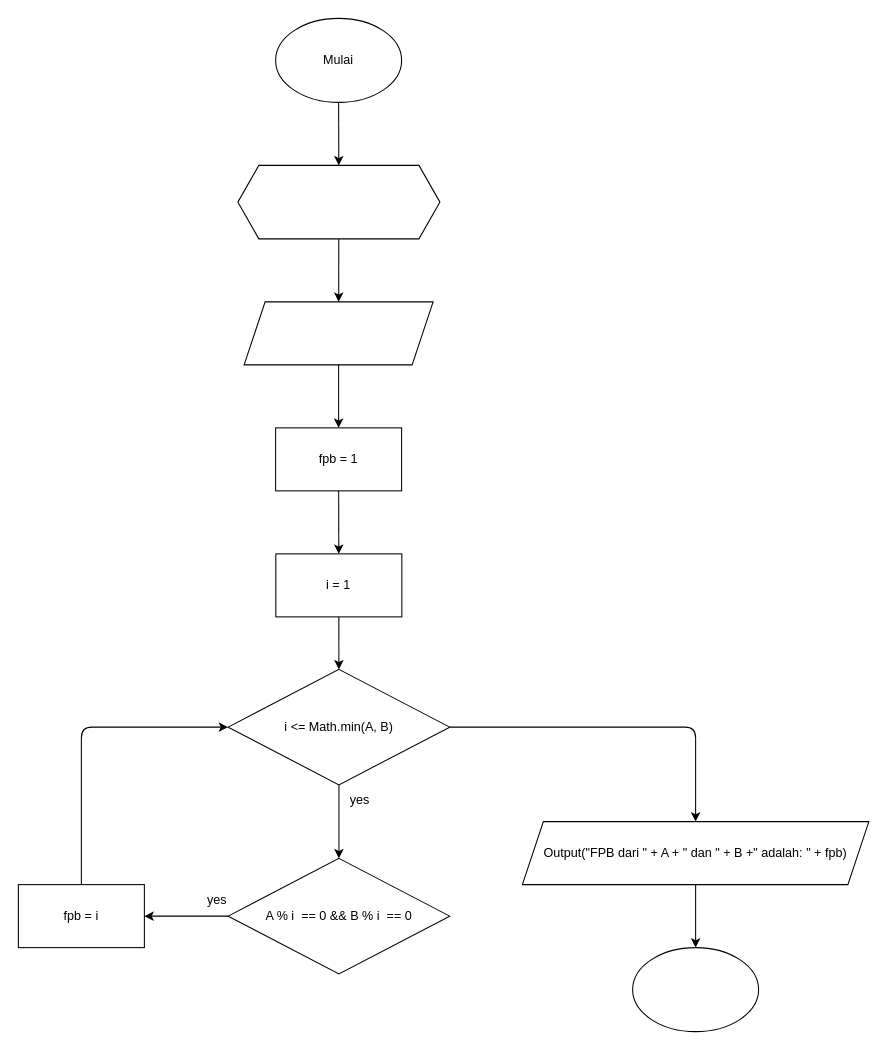
The diagram is 887 pixels wide and 1050 high, and some of its shapes have lost their labels. The shapes that lost their labels are listed below. From the top down, each one's centre as x and y in pixels, then its label:
At [338,201]: "int A, B, fpb, i".
At [338,333]: "Input(A, B)".
At [695,989]: "Selesai".
